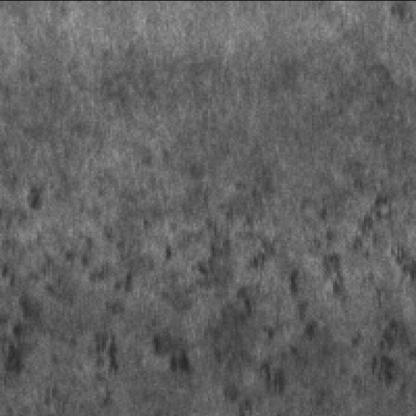rolled-in_scale: (141, 208, 412, 412), (0, 238, 160, 388)
